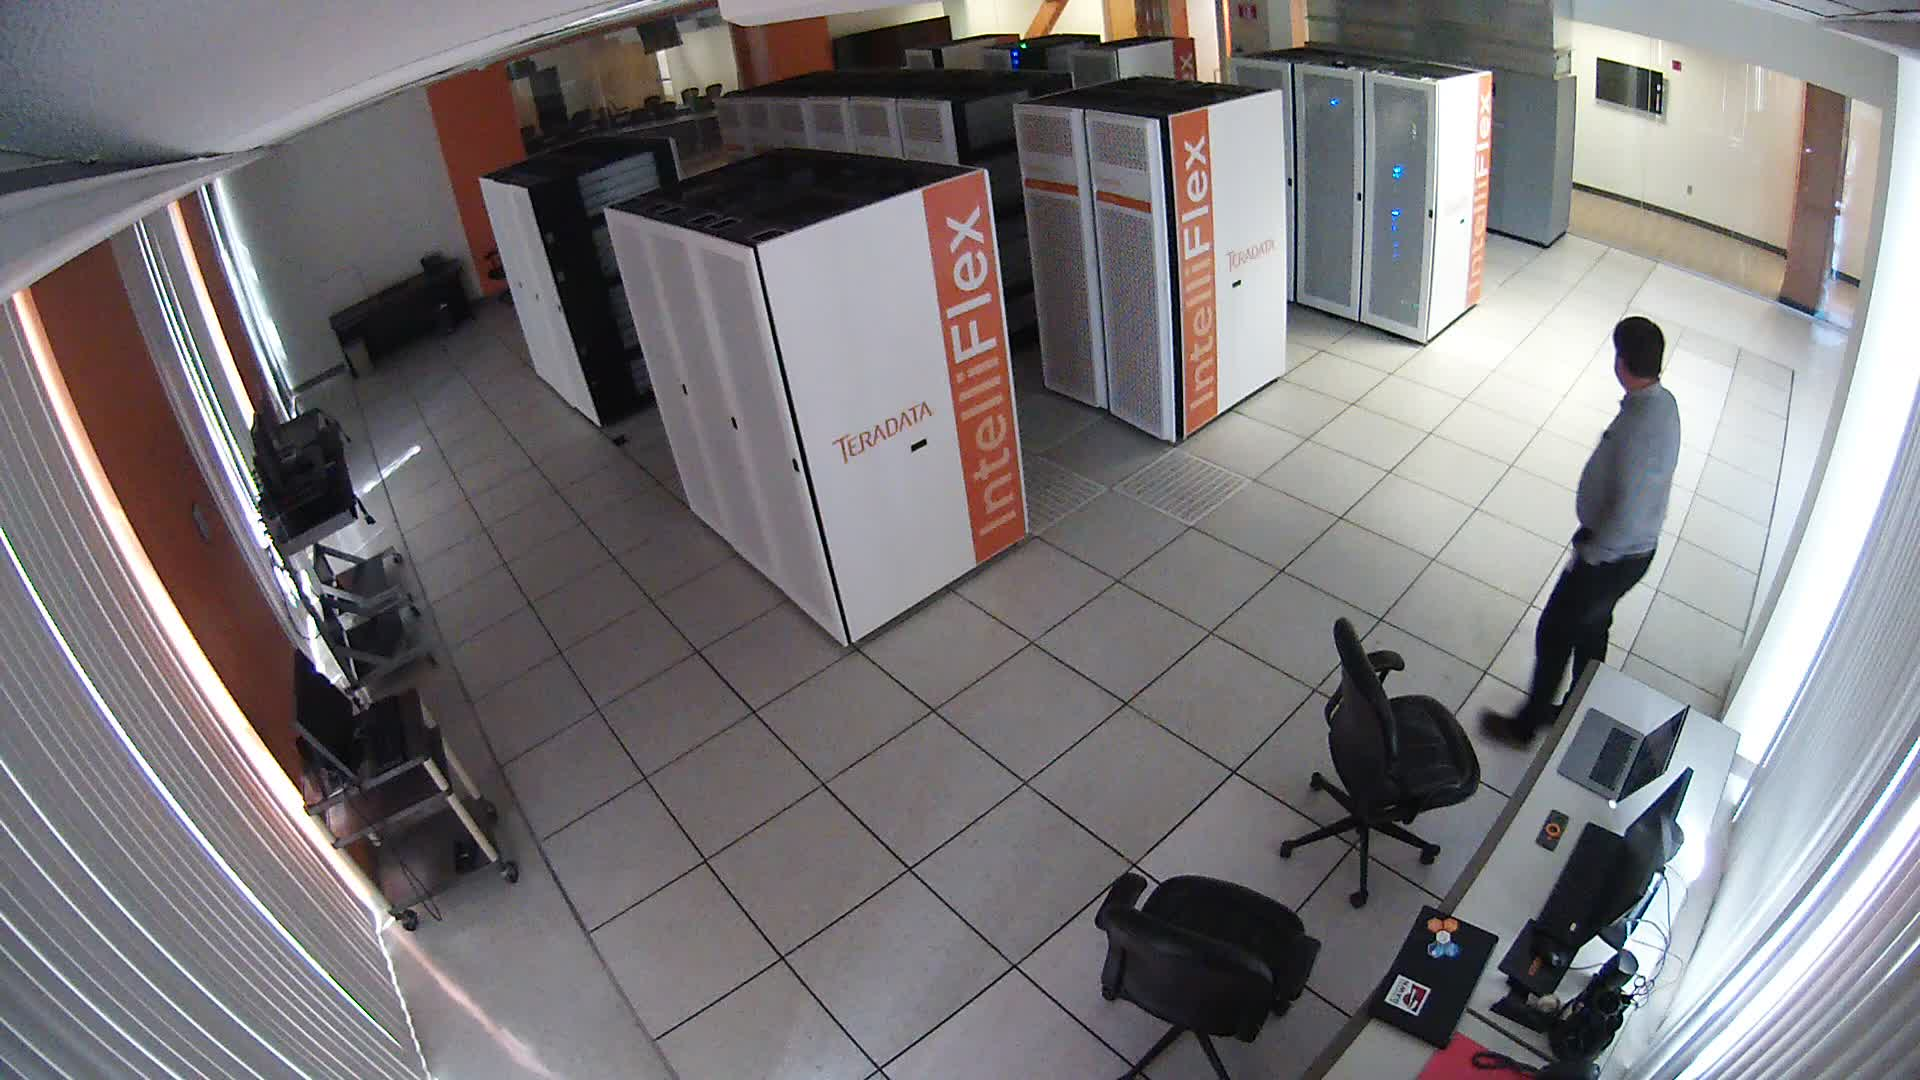pp: (1487, 309, 1747, 777)
